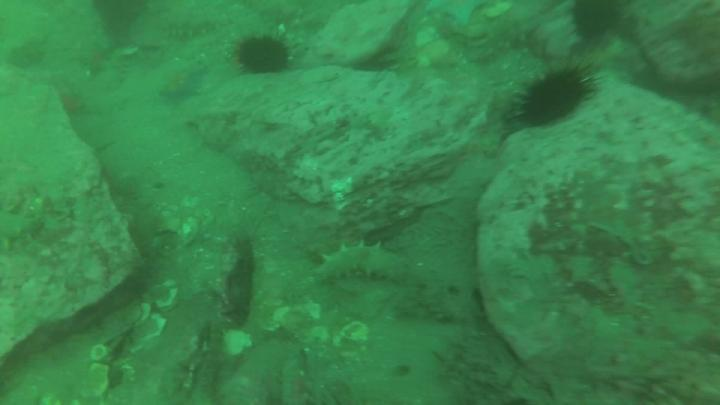echinus: (502, 61, 603, 138), (232, 32, 300, 80), (569, 1, 629, 48), (87, 1, 136, 34)
holothurian: (312, 240, 409, 288), (156, 14, 220, 45), (95, 47, 132, 100)
starfish: (159, 62, 209, 111), (423, 1, 495, 29)
